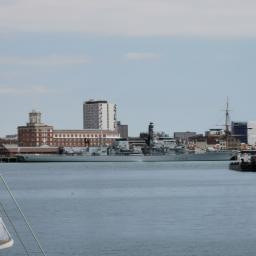Fragata: (12, 133, 244, 165)
